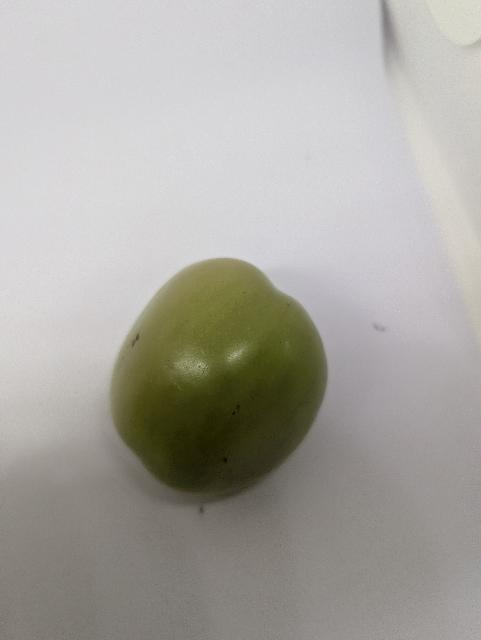green: (99, 240, 335, 505)
